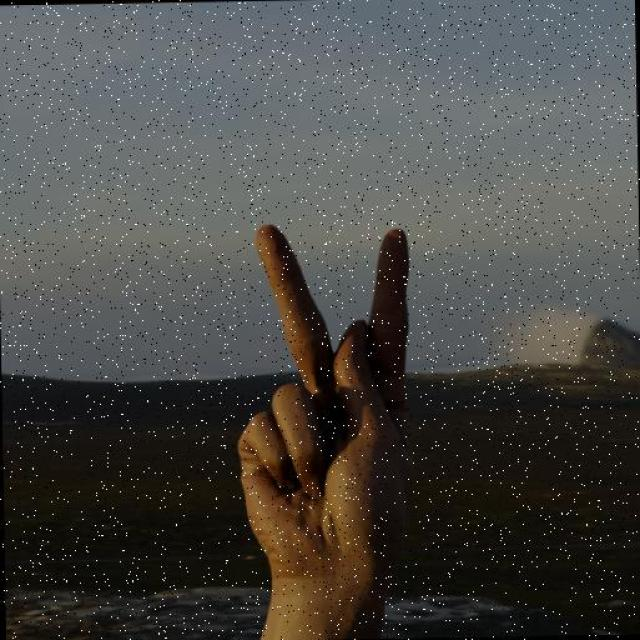K: (234, 220, 416, 574)
